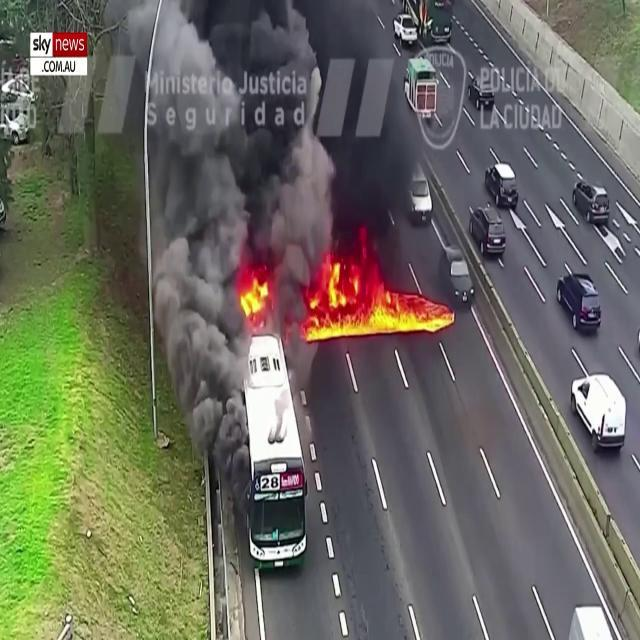Fire: (306, 252, 452, 338), (235, 262, 272, 324)
Smoke: (84, 0, 428, 312), (89, 0, 292, 483)
